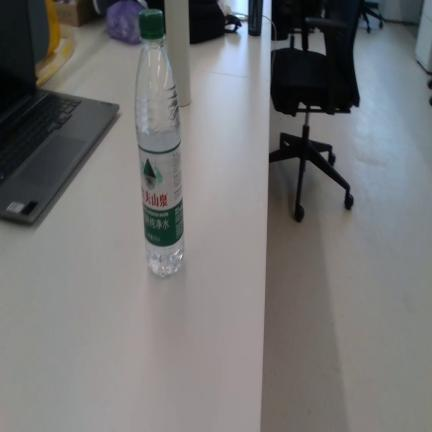bottle: (135, 9, 184, 277)
